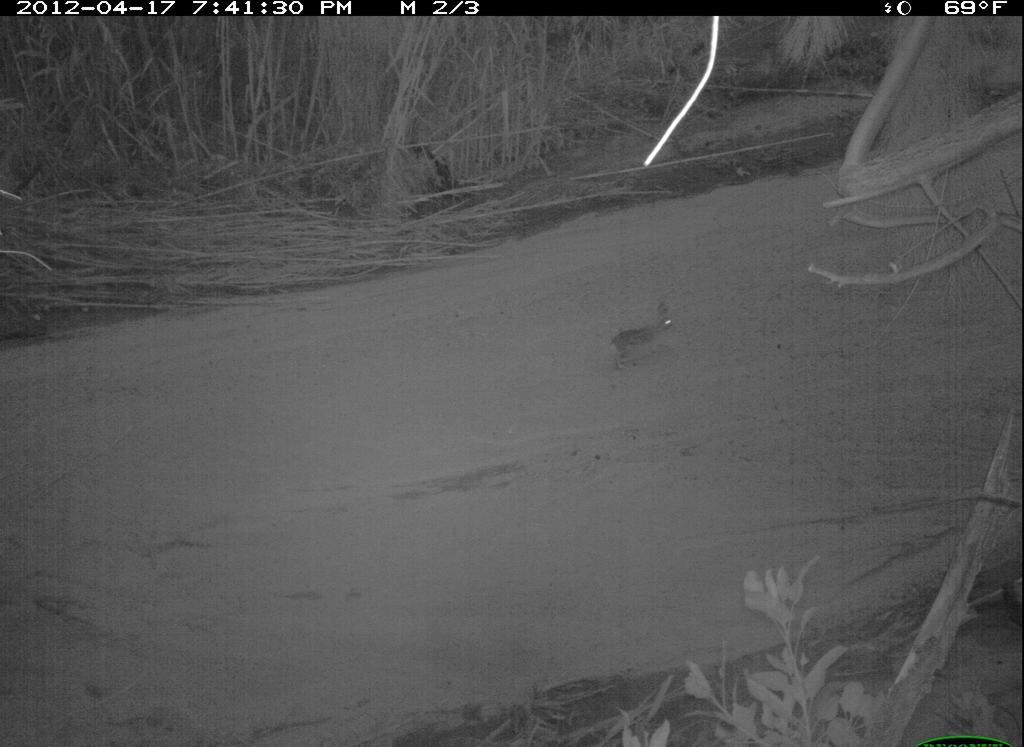rabbit: (597, 294, 692, 379)
